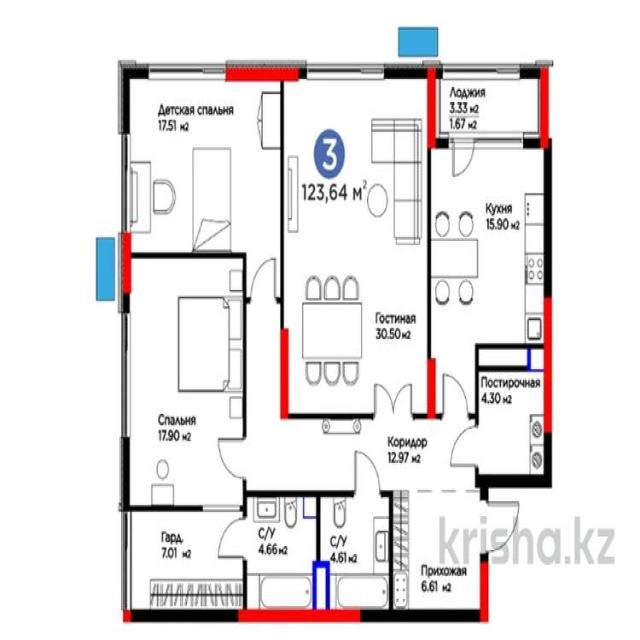balcony: (434, 65, 546, 142)
bathroom: (476, 345, 550, 486), (319, 496, 394, 611), (245, 492, 318, 609)
hallway: (243, 297, 484, 617)
kitchen: (431, 139, 546, 349)
living_room: (282, 67, 431, 416), (120, 66, 285, 259), (120, 256, 244, 510)
other: (122, 504, 245, 610)
